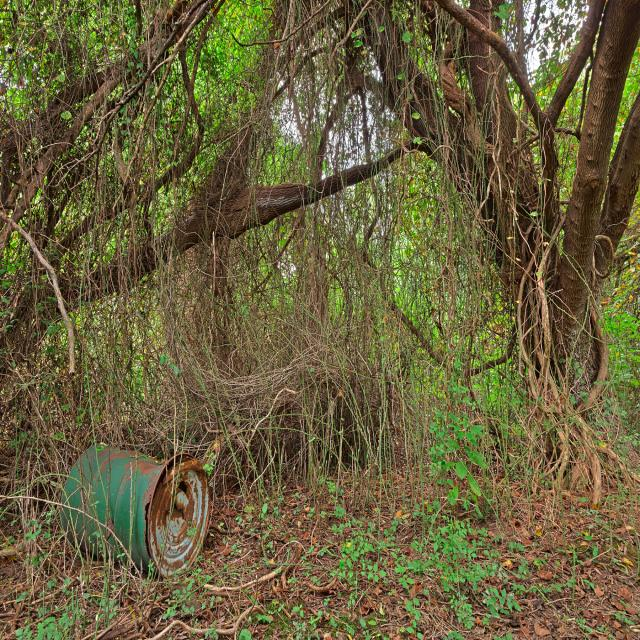metal: (69, 435, 212, 588)
